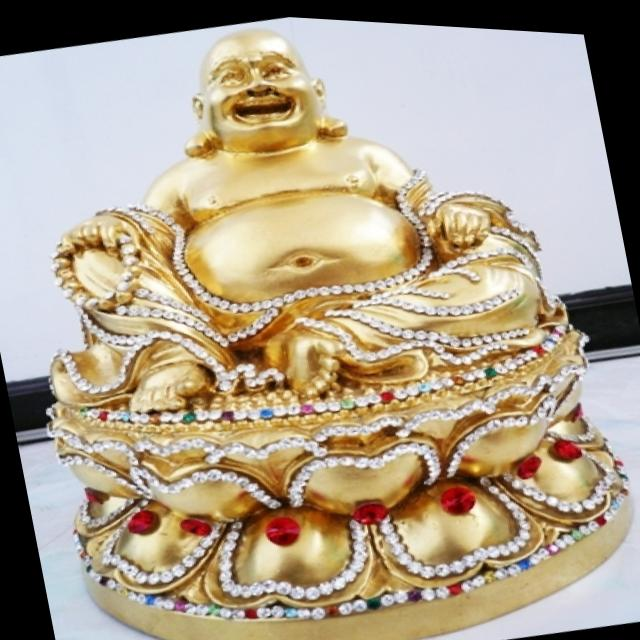Smiling Buddha: (71, 3, 492, 430)
